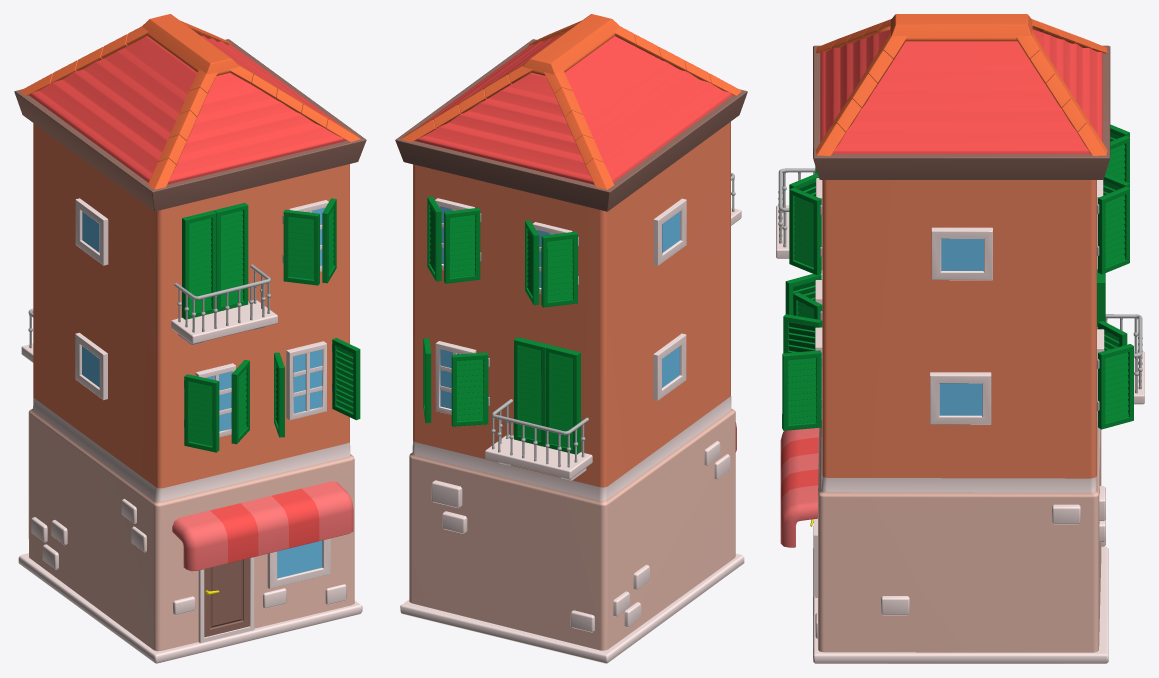
File: City_10_House_1.glb
3 renders of one model, left to right at view 1: azimuth 30°, elevation 25°; view 2: azimuth 150°, elevation 25°; view 3: azimuth 270°, elevation 25°, orthographic. The views are drawn at different scales.
Parts seen in each view (by area): view 1: City_10_House_1; view 2: City_10_House_1; view 3: City_10_House_1.
Boxes of the visible parts, box(x1,y1,x2,y2) form: City_10_House_1: box(14, 14, 366, 663); City_10_House_1: box(395, 14, 747, 663); City_10_House_1: box(776, 14, 1144, 663).
Size of the model in its own units: 5.36 by 13.11 by 7.41.
Materials: 1 (1 with a texture image).
